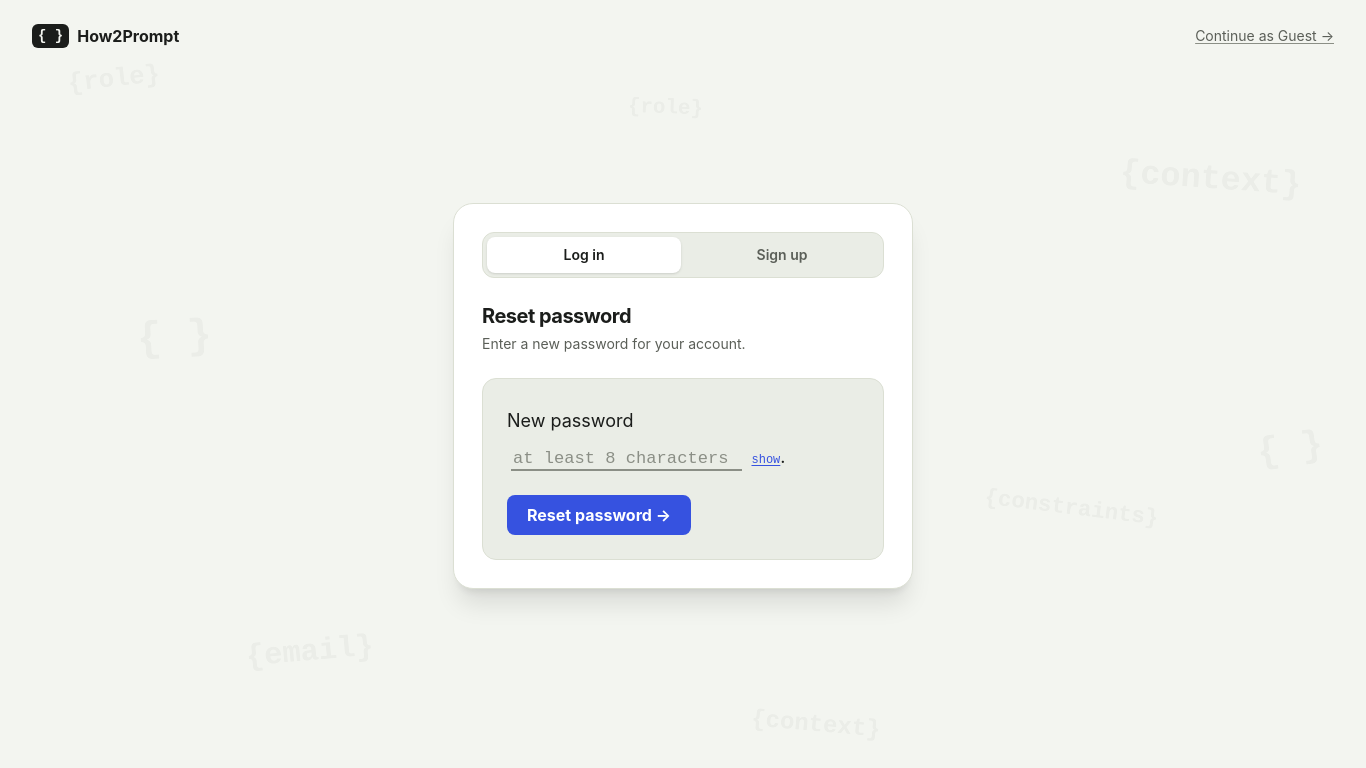
Test case: ResetPasswordPage › re-validates the token on every load, so reopening an already-used link via back navigation still shows the expired-link message
The width and height of the screenshot is (1366, 768).
Type "newpassword123" into the password field with placeholder "at least 8 characters". click: (627, 460)
box: [511,448,742,471]
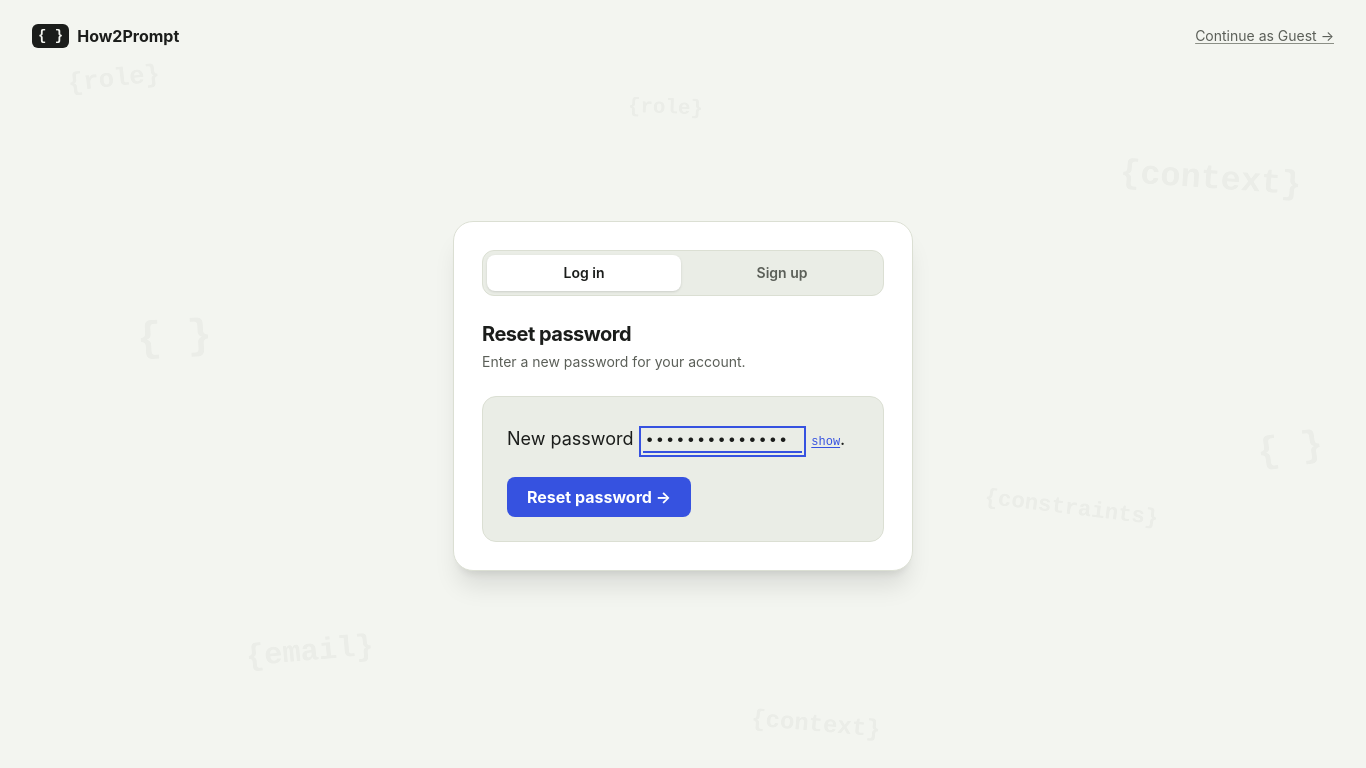
Click the button "Reset password →". click: (599, 497)
box: [507,477,691,517]
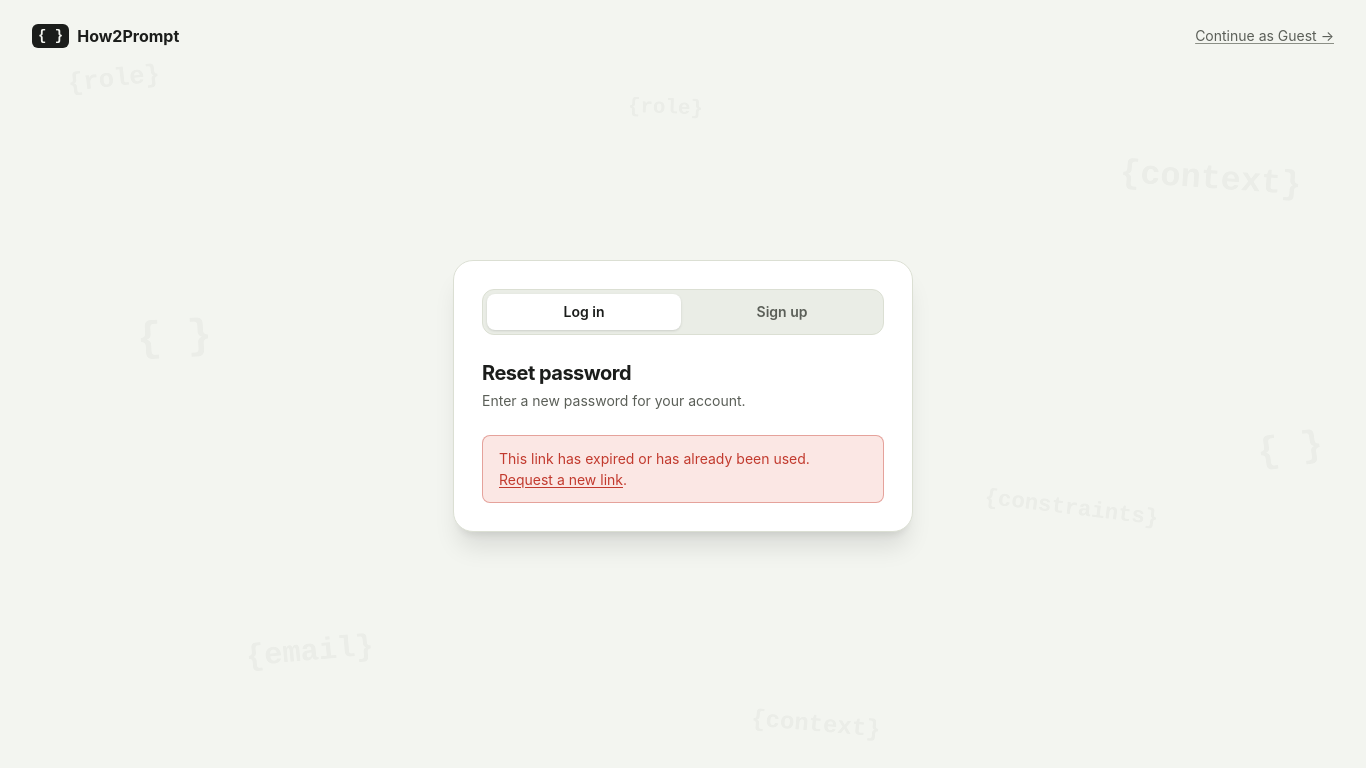
Expected: the text "This link has expired or has already been used." is shown, [499,450,810,467]
